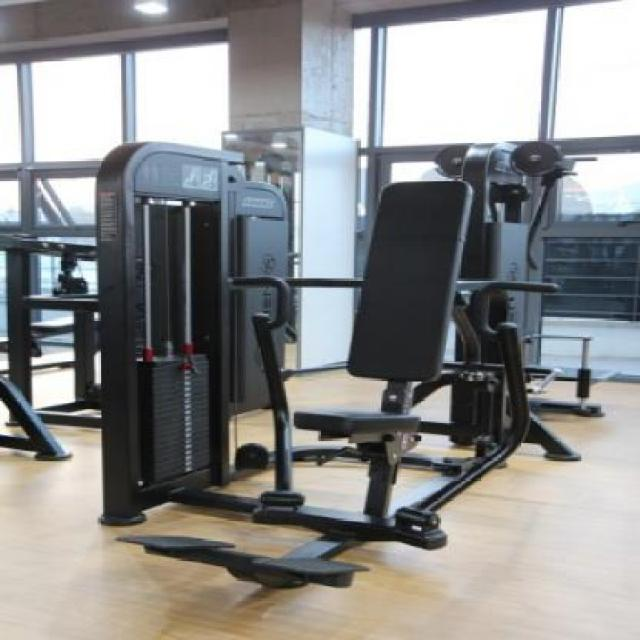Chest Press machine: (77, 117, 609, 605)
